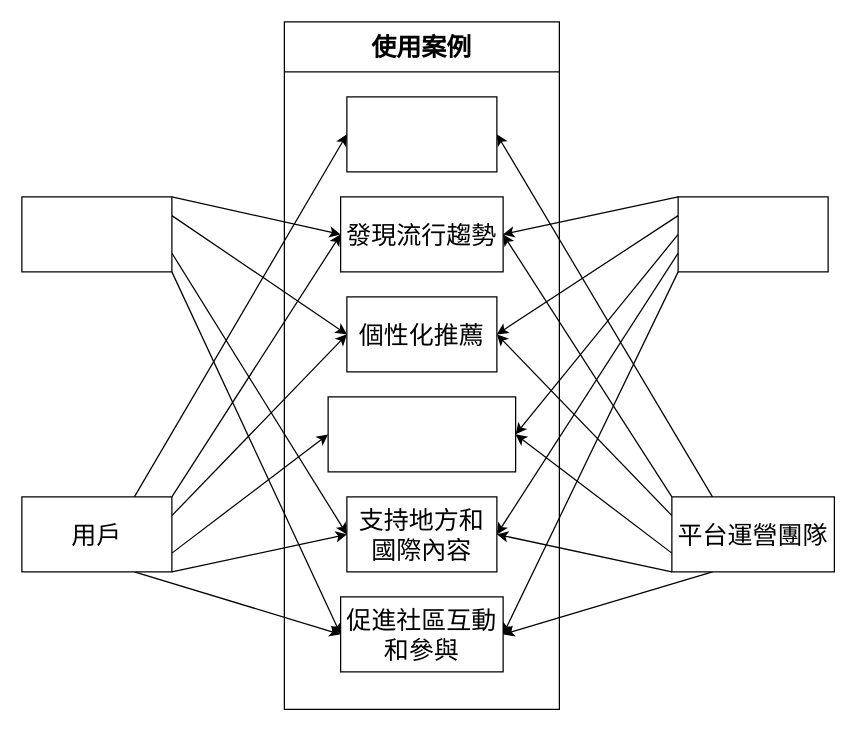
Image size: 856x731. Some labels were removed from this diagram. The shapes that lost their labels are listed below. From the top down, each one's centre as x and y in pixels, then its label:
At point 421,134: "探索新內容".
At point 96,234: "創作者".
At point 752,234: "廣告商".
At point 421,434: "發現新的創作者和品牌".
